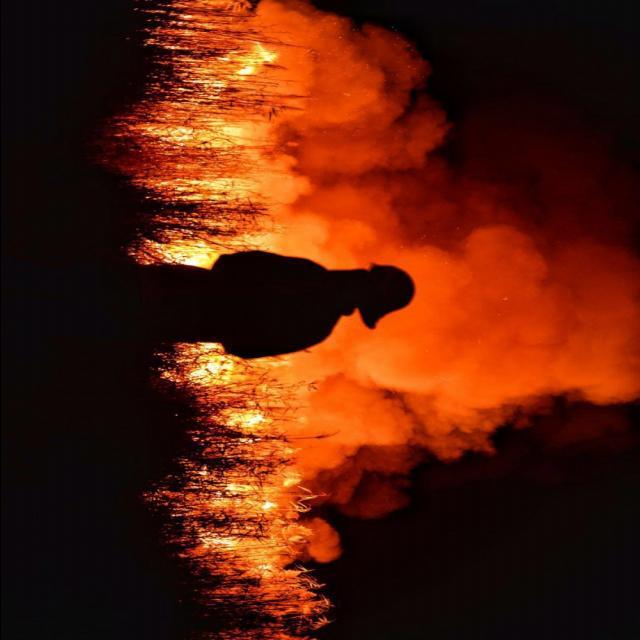Fire: (140, 26, 320, 592)
